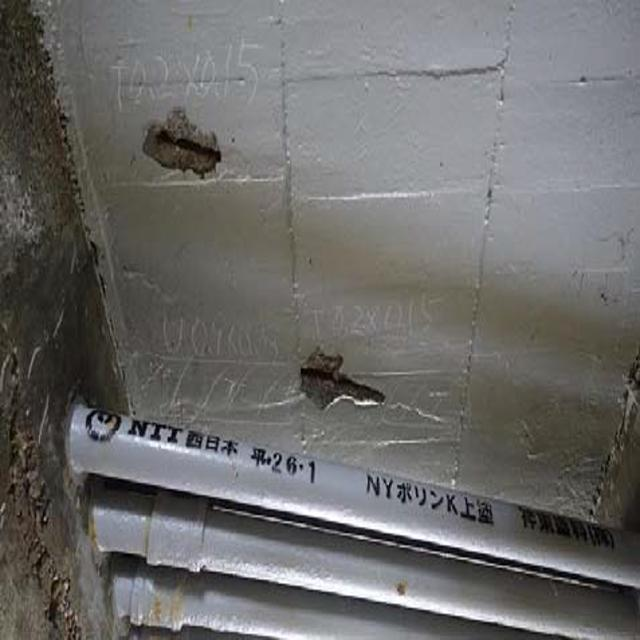spalling: (136, 97, 253, 199), (284, 343, 412, 427)
